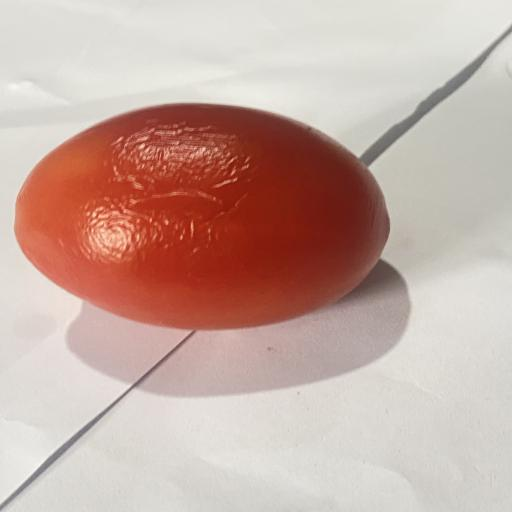spoiled: (15, 103, 390, 330)
